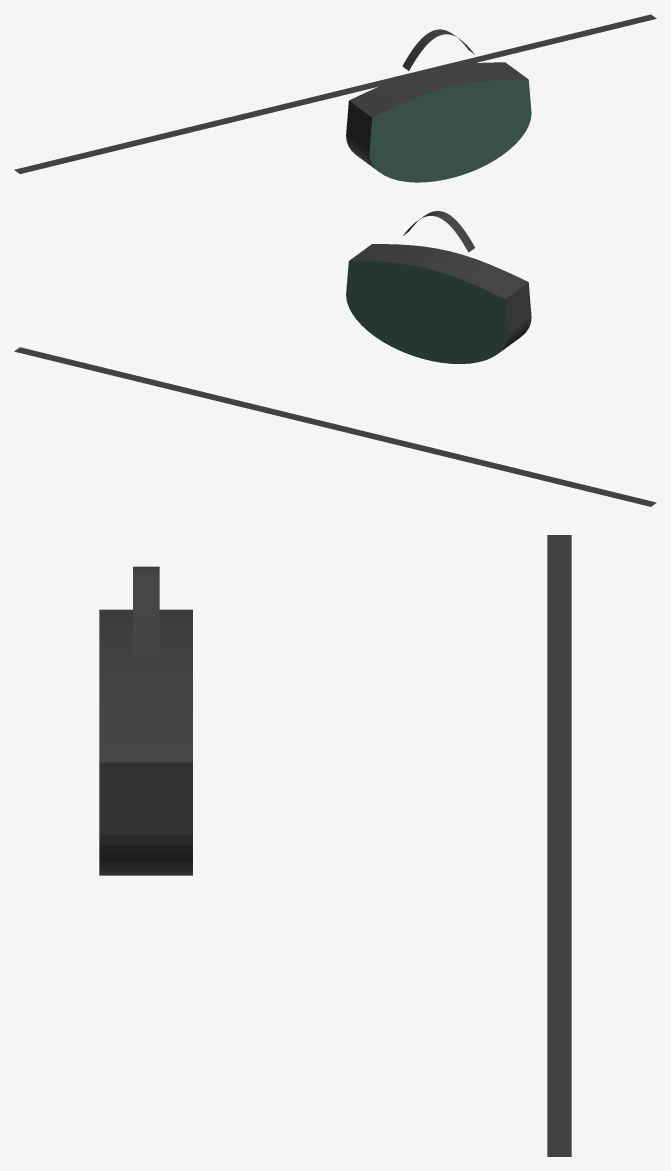
The model's file is spirit_prepped.glb.
3 views of the same model, one above another, from view 1: azimuth 30°, elevation 25°; view 2: azimuth 150°, elevation 25°; view 3: azimuth 270°, elevation 25° (orthographic). The views are drawn at different scales.
Visible parts, largest first — view 1: CrescentBody, CrossbodyStrap, ShoulderStrap; view 2: CrescentBody, CrossbodyStrap, ShoulderStrap; view 3: CrescentBody, CrossbodyStrap, ShoulderStrap.
Boxes of the visible parts, box(x1,y1,x2,y2) form: CrescentBody: box(346, 62, 531, 182); CrossbodyStrap: box(14, 14, 656, 173); ShoulderStrap: box(402, 29, 474, 70); CrescentBody: box(346, 244, 531, 363); CrossbodyStrap: box(14, 347, 656, 506); ShoulderStrap: box(403, 211, 474, 252); CrescentBody: box(99, 609, 192, 875); CrossbodyStrap: box(547, 535, 571, 1156); ShoulderStrap: box(133, 566, 159, 659).
Size of the model in its own units: 1.1 by 0.2269 by 0.353.
